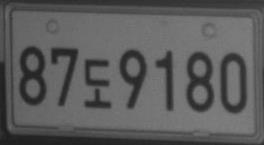0: (219, 51, 248, 114)
1: (152, 50, 182, 110)
7: (50, 47, 78, 106)
8: (18, 45, 47, 106), (186, 50, 214, 113)
9: (118, 48, 147, 109)
도: (83, 58, 111, 108)
